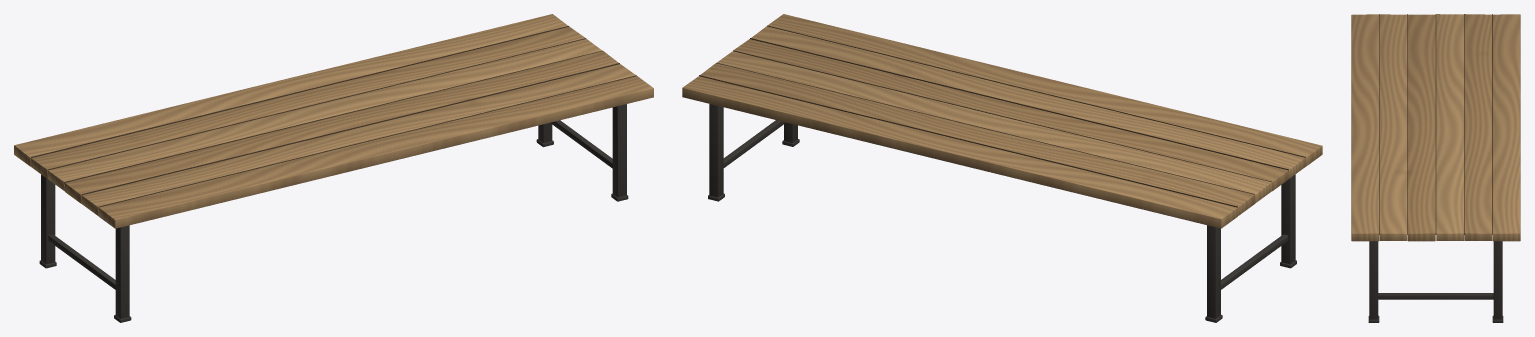
Rendered from banco.glb.
3 renders of one model, left to right at view 1: azimuth 30°, elevation 25°; view 2: azimuth 150°, elevation 25°; view 3: azimuth 270°, elevation 25°, orthographic. The views are drawn at different scales.
Visible parts, largest first — view 1: Banco_Piano, Banco_Giunti, Banco_Gamba1, Banco_Gamba2, Banco_Gamba3; view 2: Banco_Piano, Banco_Giunti, Banco_Gamba1, Banco_Gamba4, Banco_Gamba3, Banco_Gamba2; view 3: Banco_Piano, Banco_Gamba2, Banco_Giunti, Banco_Gamba4.
Boxes of the visible parts, x1,y1,x2,y2 form: Banco_Piano: (14, 14, 653, 228); Banco_Giunti: (31, 26, 636, 207); Banco_Gamba1: (48, 225, 131, 322); Banco_Gamba2: (550, 104, 628, 201); Banco_Gamba3: (39, 174, 56, 268); Banco_Piano: (682, 14, 1322, 228); Banco_Giunti: (699, 25, 1305, 207); Banco_Gamba1: (1221, 174, 1296, 289); Banco_Gamba4: (708, 104, 724, 201); Banco_Gamba3: (1205, 225, 1222, 322); Banco_Gamba2: (723, 120, 799, 167); Banco_Piano: (1351, 14, 1520, 241); Banco_Gamba2: (1368, 241, 1493, 322); Banco_Giunti: (1379, 14, 1492, 234); Banco_Gamba4: (1492, 241, 1503, 322).
Bounding box in the file's own units: 4.6 × 0.941 × 1.5.
Materials: 3 (1 with a texture image).
